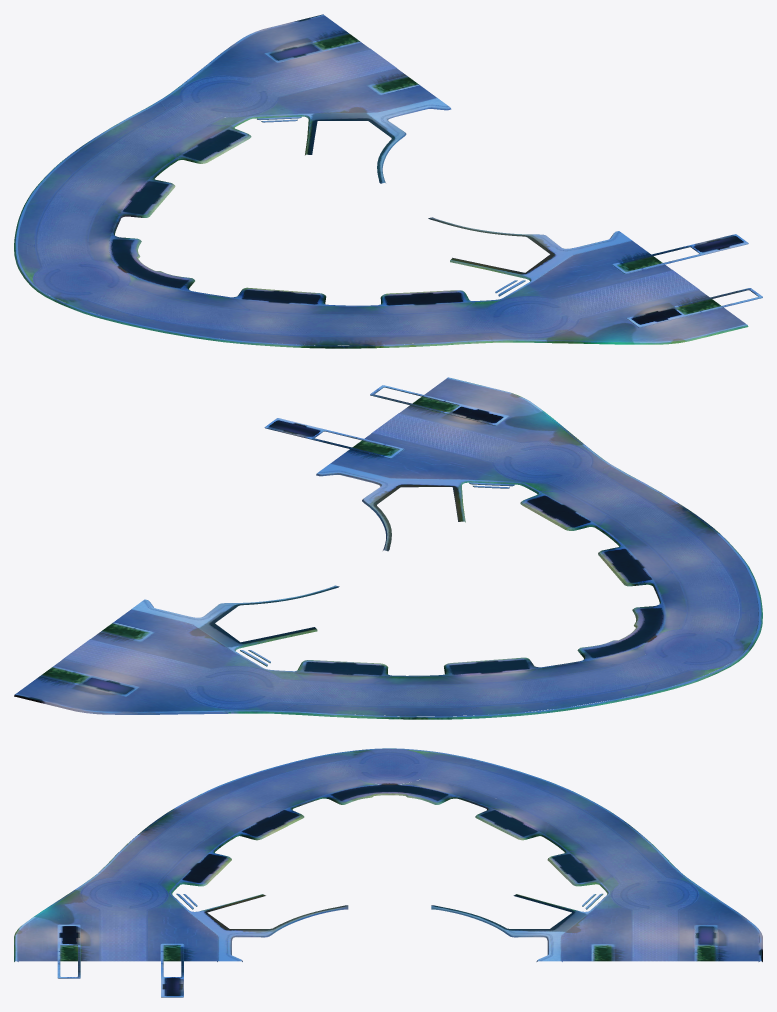
File: pref_sm_beach_WSJ_techsmall_001_bk_main_road02_lv0.fbx
The picture shows the model from 3 angles, top to bottom: view 1: azimuth 30°, elevation 25°; view 2: azimuth 150°, elevation 25°; view 3: azimuth 270°, elevation 25°; orthographic projection. The views are drawn at different scales.
Parts seen in each view (by area): view 1: pref_sm_beach_WSJ_techsmall_001_bk_main_road02_lv0; view 2: pref_sm_beach_WSJ_techsmall_001_bk_main_road02_lv0; view 3: pref_sm_beach_WSJ_techsmall_001_bk_main_road02_lv0.
Part boxes in pixels (x1=…): pref_sm_beach_WSJ_techsmall_001_bk_main_road02_lv0: x1=14, y1=14, x2=762, y2=348; pref_sm_beach_WSJ_techsmall_001_bk_main_road02_lv0: x1=14, y1=377, x2=762, y2=719; pref_sm_beach_WSJ_techsmall_001_bk_main_road02_lv0: x1=14, y1=748, x2=762, y2=997.
Bounding box in the file's own units: 55.5 × 0.2236 × 70.37.
